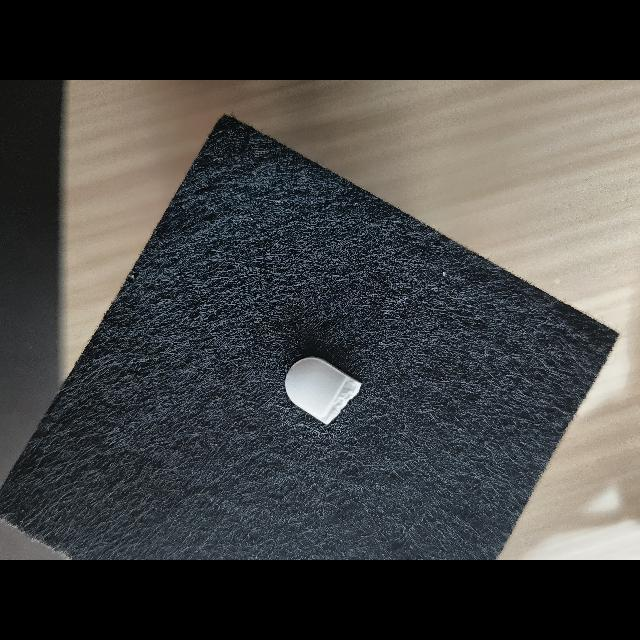Chipped Pill: (285, 357, 362, 425)
